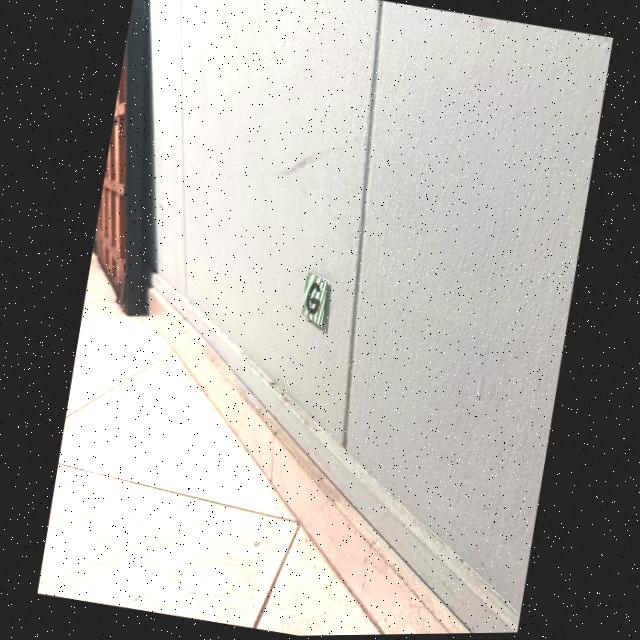G: (305, 283, 319, 314)
